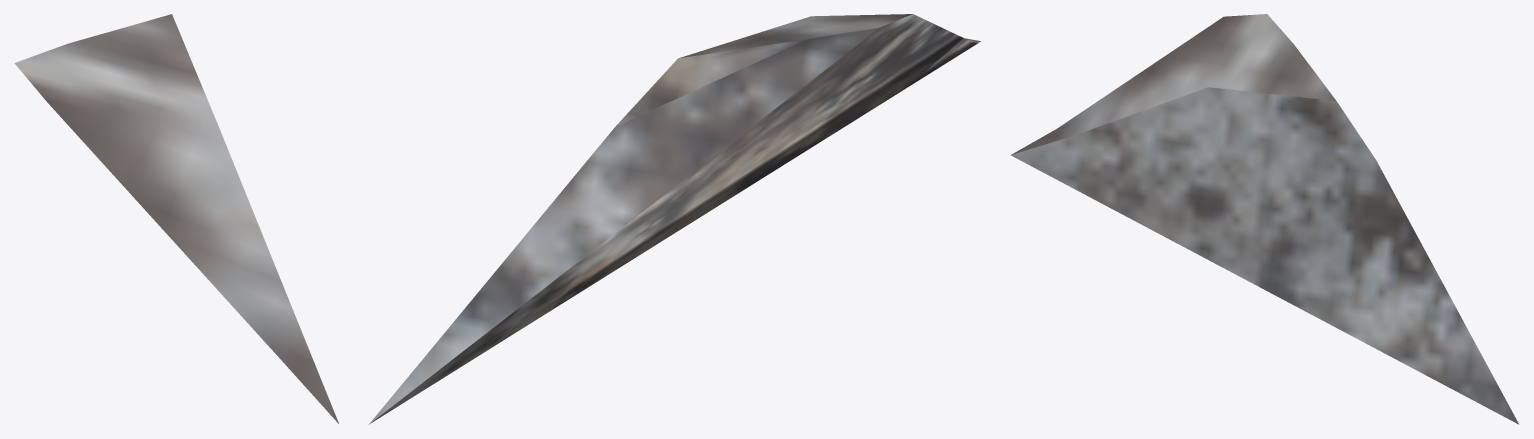
File: Asteroid_Large_001_02_009_03_005.fbx
3 renders of one model, left to right at view 1: azimuth 30°, elevation 25°; view 2: azimuth 150°, elevation 25°; view 3: azimuth 270°, elevation 25°, orthographic. The views are drawn at different scales.
Visible parts, largest first — view 1: Asteroid_Large_001_02_009_03_005; view 2: Asteroid_Large_001_02_009_03_005; view 3: Asteroid_Large_001_02_009_03_005.
Boxes of the visible parts, x1,y1,x2,y2 form: Asteroid_Large_001_02_009_03_005: [14, 14, 338, 423]; Asteroid_Large_001_02_009_03_005: [369, 14, 980, 424]; Asteroid_Large_001_02_009_03_005: [1010, 14, 1518, 424].
Size of the model in its own units: 1.82 by 1.79 by 2.95.
